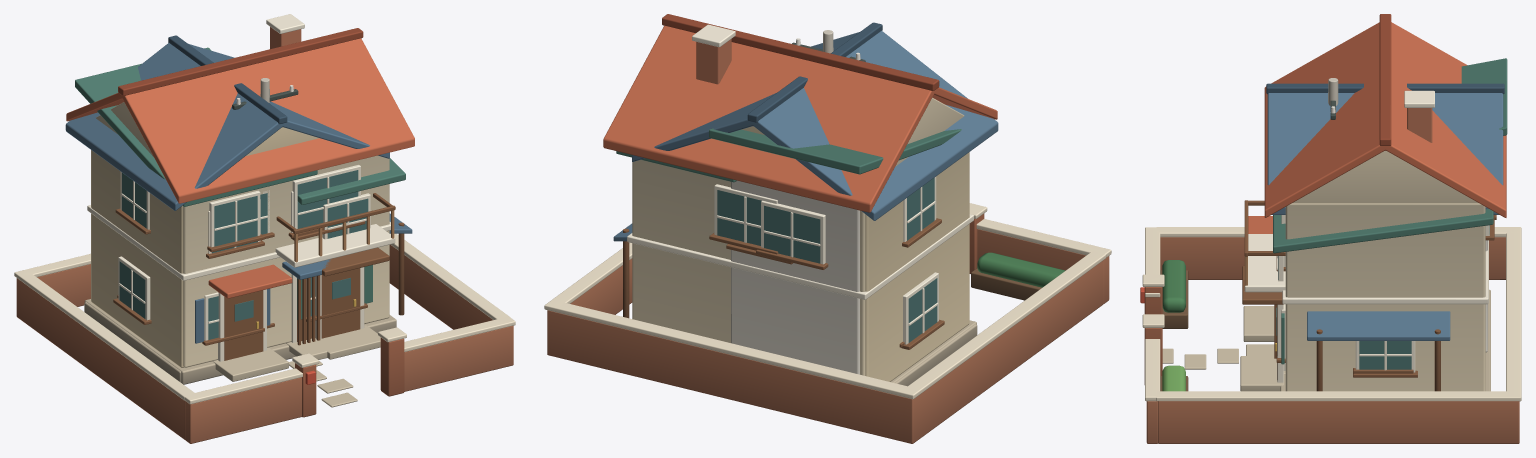
The model's file is coastal-houses.glb.
The picture shows the model from 3 angles, left to right: view 1: azimuth 30°, elevation 25°; view 2: azimuth 150°, elevation 25°; view 3: azimuth 270°, elevation 25°; orthographic projection. The views are drawn at different scales.
Visible parts, largest first — view 1: House_A, Lot_Wall_Brick, House_C, House_B, Prop_UtilityPole; view 2: House_A, Lot_Wall_Brick, House_C, House_B; view 3: House_A, Lot_Wall_Brick, House_C, House_B, Prop_UtilityPole.
Part boxes in pixels (left/top/right/bottom): House_A: left=66, top=14, right=414, bottom=384; Lot_Wall_Brick: left=14, top=233, right=515, bottom=443; House_C: left=65, top=35, right=412, bottom=382; House_B: left=75, top=47, right=405, bottom=359; Prop_UtilityPole: left=232, top=78, right=298, bottom=109; House_A: left=603, top=14, right=997, bottom=382; Lot_Wall_Brick: left=544, top=203, right=1111, bottom=443; House_C: left=613, top=22, right=998, bottom=386; House_B: left=616, top=128, right=961, bottom=374; House_A: left=1243, top=14, right=1506, bottom=391; Lot_Wall_Brick: left=1140, top=227, right=1521, bottom=443; House_C: left=1246, top=83, right=1504, bottom=391; House_B: left=1240, top=58, right=1507, bottom=391; Prop_UtilityPole: left=1328, top=78, right=1338, bottom=119.
Size of the model in its own units: 8.88 by 7.22 by 8.38.
